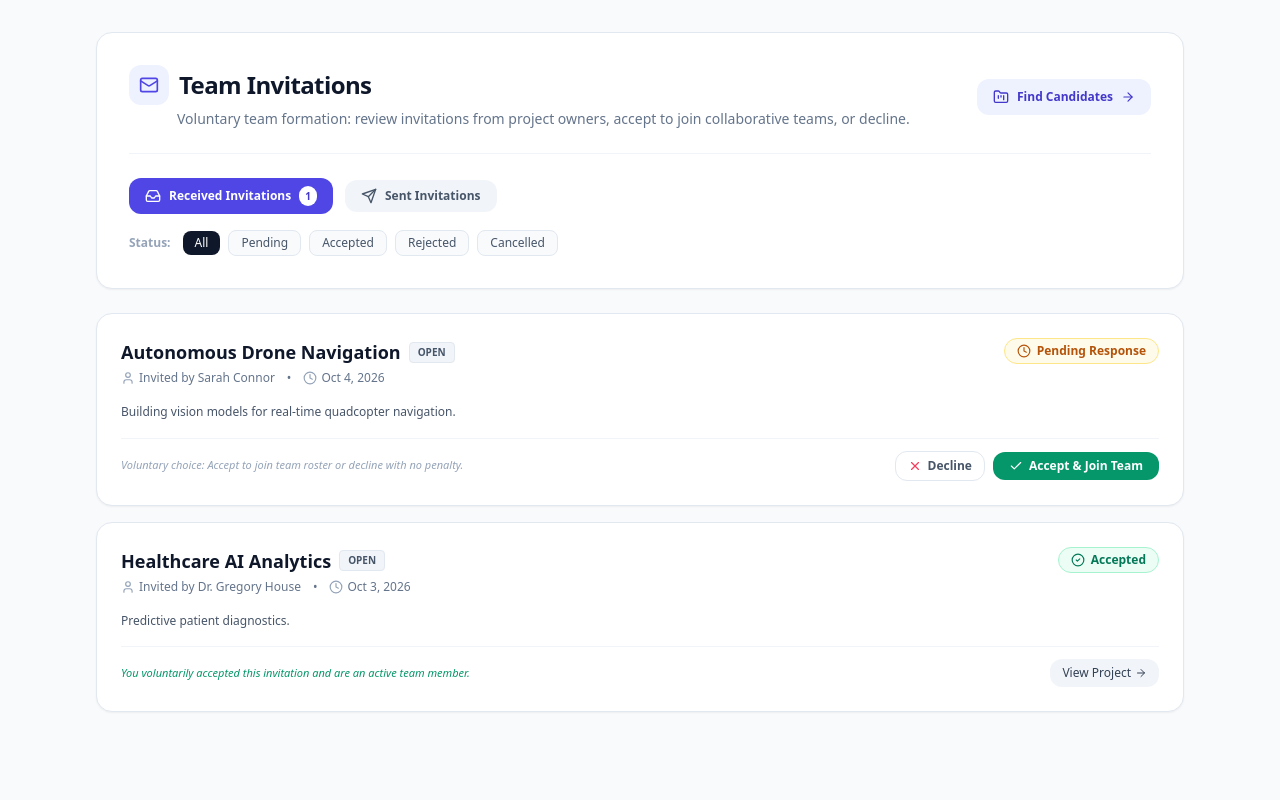
Phase 13: Voluntary Team Formation & Invitations Frontend Tests › 4. accepts invitation voluntarily and updates UI
The width and height of the screenshot is (1280, 800).
Expected: the link "Autonomous Drone Navigation" is shown, [121,338,401,366]
What coordinates should you click on to do the following:
click the button "Accept & Join Team"
I would click on:
 (1076, 466)
Its box is [993,452,1159,480].
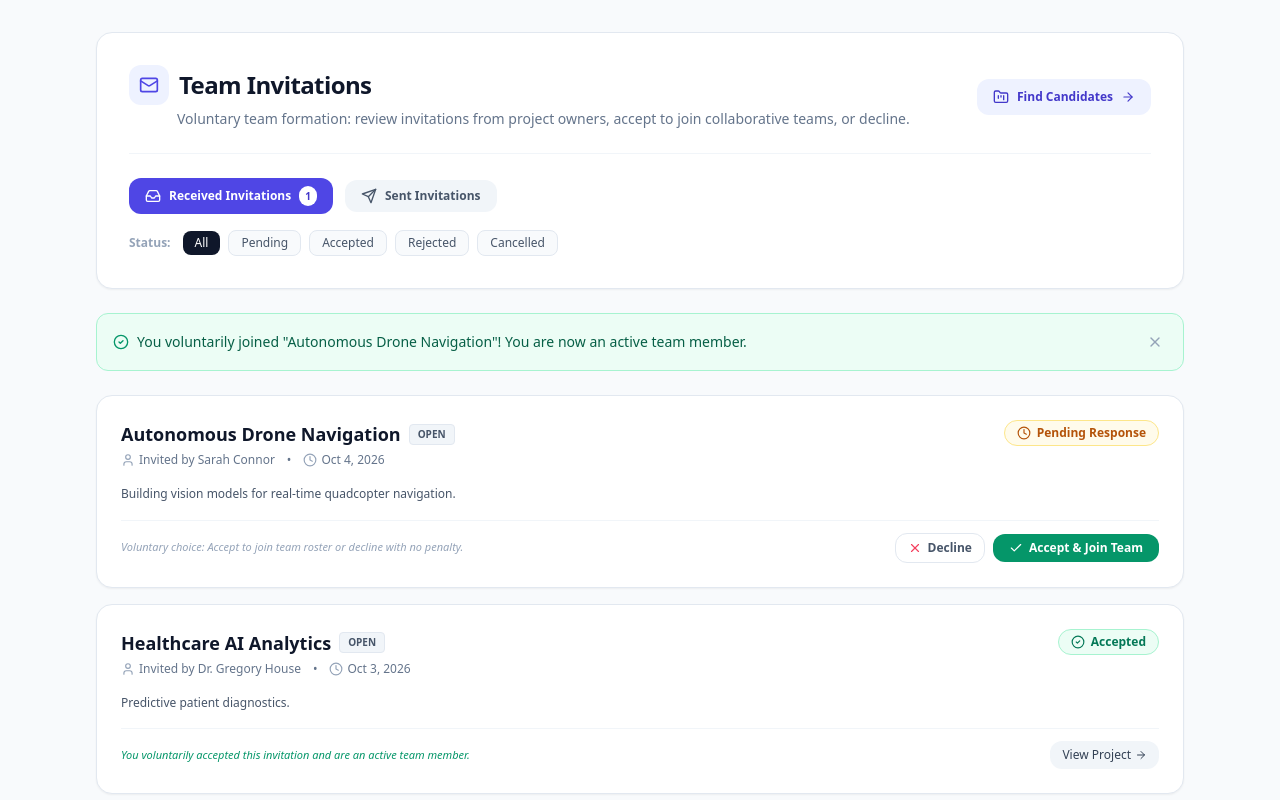
Expected: the text "You voluntarily joined \"Autonomous Drone Navigation\"!" is shown, [137,332,747,351]
